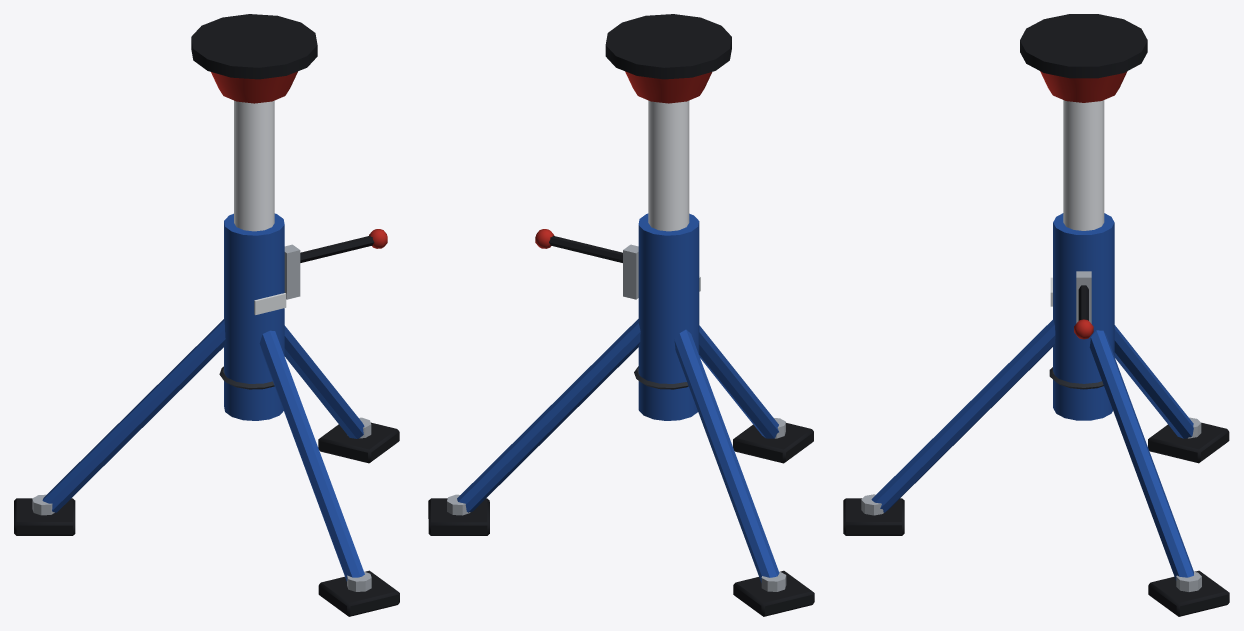
Rendered from hangartool_tripod_jack.glb.
The picture shows the model from 3 angles, left to right: view 1: azimuth 30°, elevation 25°; view 2: azimuth 150°, elevation 25°; view 3: azimuth 270°, elevation 25°; orthographic projection.
Visible parts, largest first — view 1: hangartool_tripod_jack; view 2: hangartool_tripod_jack; view 3: hangartool_tripod_jack.
Part boxes in pixels (x1,y1,x2,y2): hangartool_tripod_jack: (14, 14, 399, 616); hangartool_tripod_jack: (428, 14, 814, 616); hangartool_tripod_jack: (843, 14, 1229, 616).
Size of the model in its own units: 1.74 by 2.09 by 1.51.
